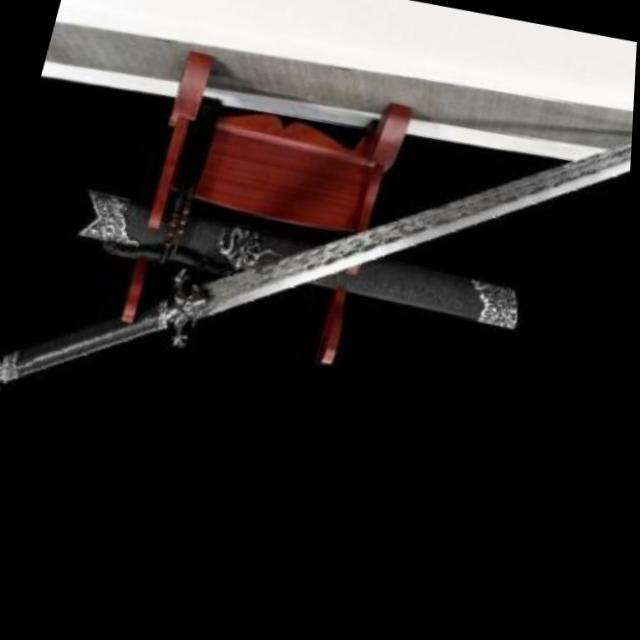weapon: (0, 6, 639, 513)
